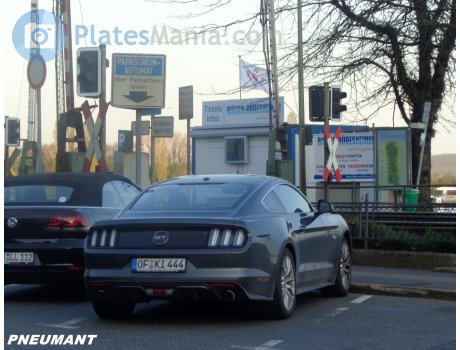License Plates: (133, 257, 188, 266)
